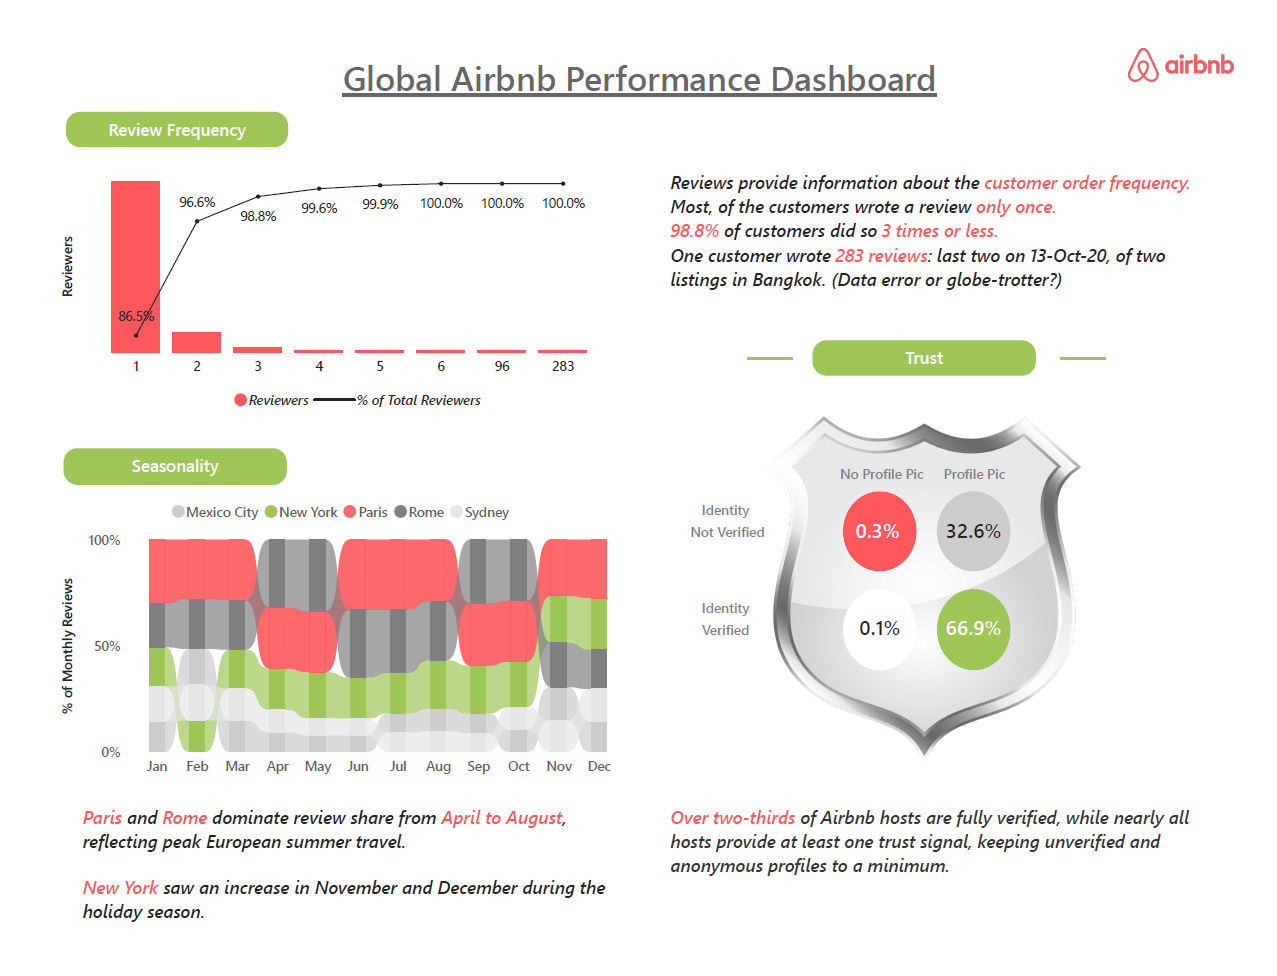

This screenshot's page, from the dashboard's own definition file:
{"tool":"powerbi","page":{"name":"Reviews","canvas":[960,720],"ordinal":2},"visuals":[{"type":"textbox","box":[227.5,0,505,50],"z":0},{"type":"textbox","box":[47.8,58.9,222.2,32.2],"z":1000},{"type":"textbox","box":[620.8,234.5,184.2,31.3],"z":2000},{"type":"shape","box":[575.1,232.3,38,34.6],"z":3000},{"type":"shape","box":[818.5,231.1,40.2,34.6],"z":4000},{"type":"image","box":[848.8,0,111.2,25],"z":5000},{"type":"textbox","box":[542.5,537.5,371.2,67.5],"z":7000},{"type":"lineStackedColumnComboChart","fields":{"Category":["Reviews.Reviews per Reviewers"],"Y":["Reviews.Reviewers"],"Y2":["Reviews.Cumulative % review frequency"]},"box":[48,103.8,485.7,255.7],"z":8000},{"type":"textbox","box":[541.6,103.8,396.4,99.4],"z":9000},{"type":"image","box":[513.7,232.3,399.8,330.5],"z":10000},{"type":"textbox","box":[542.7,409.8,68.1,38],"z":11000},{"type":"textbox","box":[533.7,350.6,77,38],"z":12000},{"type":"textbox","box":[637.6,312.7,88.2,22.3],"z":13000},{"type":"textbox","box":[713.5,312.7,79.3,22.3],"z":14000},{"type":"shape","box":[648.8,402,54.7,53.6],"z":15000},{"type":"shape","box":[649.9,342.8,54.7,53.6],"z":15001},{"type":"shape","box":[726.9,402,54.7,53.6],"z":15002},{"type":"shape","box":[725.8,342.8,54.7,53.6],"z":15003},{"type":"cardVisual","fields":{"Data":["Listings.NoProfile_NotVerified %"]},"box":[644.3,338.3,69.2,62.5],"z":15004},{"type":"cardVisual","fields":{"Data":["Listings.NotVerified_Profile %"]},"box":[711.3,338.3,86,62.5],"z":15005},{"type":"cardVisual","fields":{"Data":["Listings.NoProfile_Verified %"]},"box":[634.2,397.5,89.3,62.5],"z":15006},{"type":"cardVisual","fields":{"Data":["Listings.Verified_Profile %"]},"box":[709.1,397.5,89.3,62.5],"z":15007},{"type":"ribbonChart","fields":{"Category":["Reviews.Review Month"],"Series":["Listings.city"],"Y":["Reviews.% of Monthly Reviews"]},"box":[47.5,392.5,417.5,212.5],"z":15008},{"type":"textbox","box":[47.5,360,179.8,32.4],"z":15009},{"type":"textbox","box":[47.5,605,486.2,115],"z":15010}]}

Visuals, with their boxes in screenshot pixels (x1, y1, x2, y2), scaled from the page's 960x720 canvas onto the 1277x976 screenshot:
textbox: select_region(303, 0, 974, 68)
textbox: select_region(64, 80, 359, 123)
textbox: select_region(826, 318, 1071, 360)
shape: select_region(765, 315, 816, 362)
shape: select_region(1089, 313, 1142, 360)
image: select_region(1129, 0, 1276, 34)
textbox: select_region(722, 729, 1215, 820)
lineStackedColumnComboChart - Reviews.Reviews per Reviewers x Reviews.Reviewers: select_region(64, 141, 710, 487)
textbox: select_region(720, 141, 1248, 275)
image: select_region(683, 315, 1215, 763)
textbox: select_region(722, 556, 812, 607)
textbox: select_region(710, 475, 812, 527)
textbox: select_region(848, 424, 965, 454)
textbox: select_region(949, 424, 1055, 454)
shape: select_region(863, 545, 936, 618)
shape: select_region(865, 465, 937, 537)
shape: select_region(967, 545, 1040, 618)
shape: select_region(965, 465, 1038, 537)
cardVisual - Listings.NoProfile_NotVerified %: select_region(857, 459, 949, 543)
cardVisual - Listings.NotVerified_Profile %: select_region(946, 459, 1061, 543)
cardVisual - Listings.NoProfile_Verified %: select_region(844, 539, 962, 624)
cardVisual - Listings.Verified_Profile %: select_region(943, 539, 1062, 624)
ribbonChart - Reviews.Review Month x Listings.city: select_region(63, 532, 619, 820)
textbox: select_region(63, 488, 302, 532)
textbox: select_region(63, 820, 710, 975)
